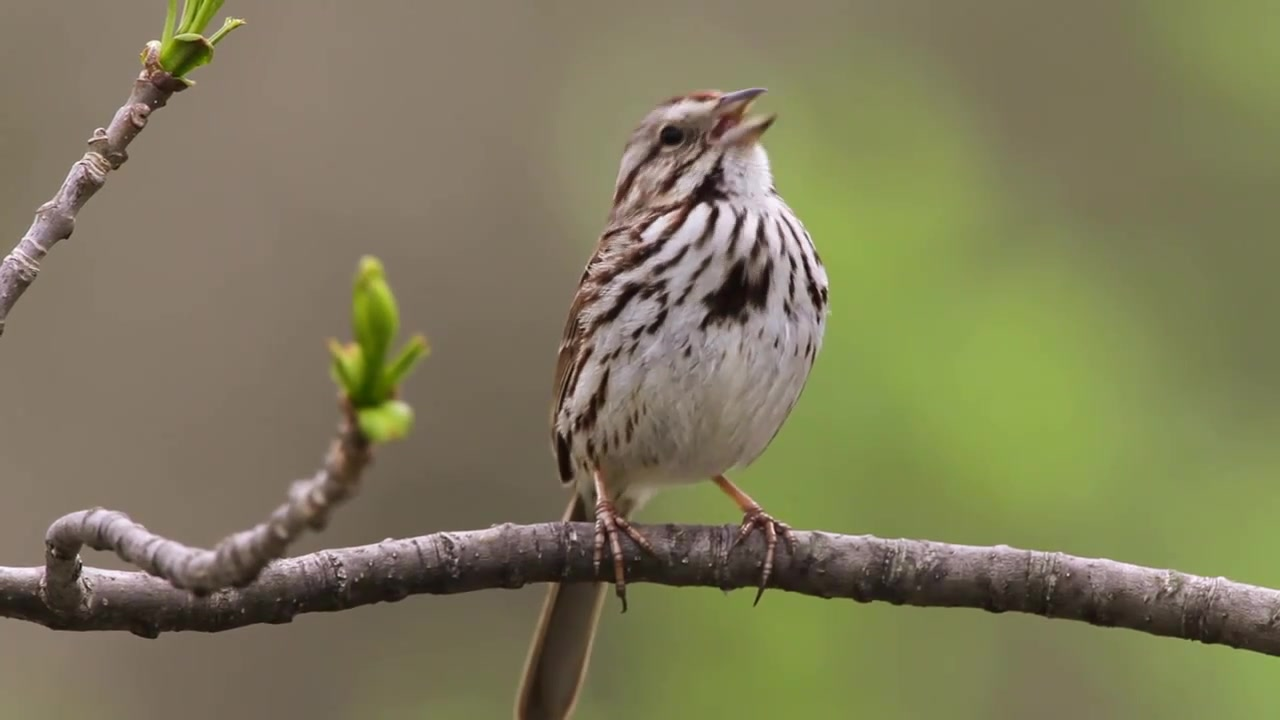bird: (514, 84, 830, 720)
